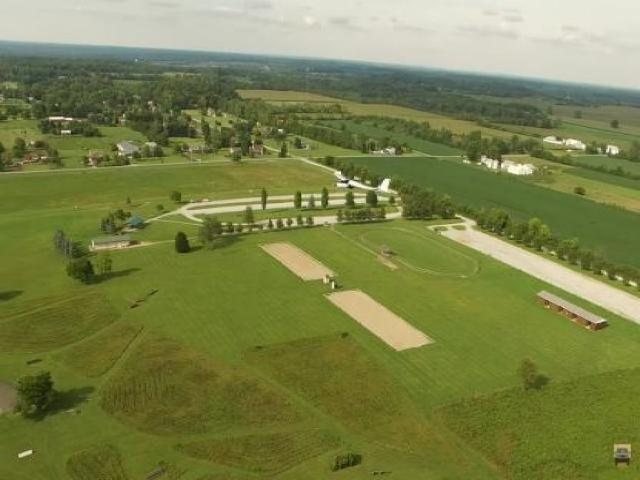uav: (326, 164, 394, 208)
